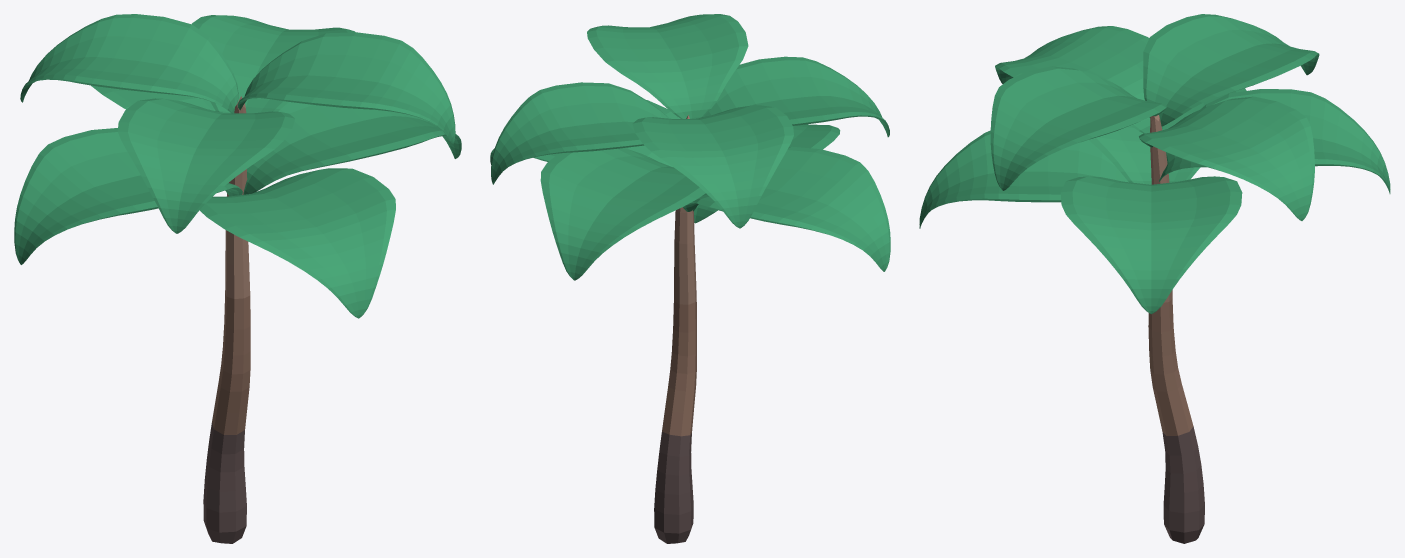
Rendered from palm.fbx.
3 renders of one model, left to right at view 1: azimuth 30°, elevation 25°; view 2: azimuth 150°, elevation 25°; view 3: azimuth 270°, elevation 25°, orthographic. The views are drawn at different scales.
Parts seen in each view (by area): view 1: PalmTree; view 2: PalmTree; view 3: PalmTree.
Boxes of the visible parts, x1=… form: PalmTree: x1=14, y1=14, x2=461, y2=543; PalmTree: x1=490, y1=14, x2=890, y2=543; PalmTree: x1=919, y1=14, x2=1390, y2=543.
Size of the model in its own units: 2022 by 2246 by 2022.
